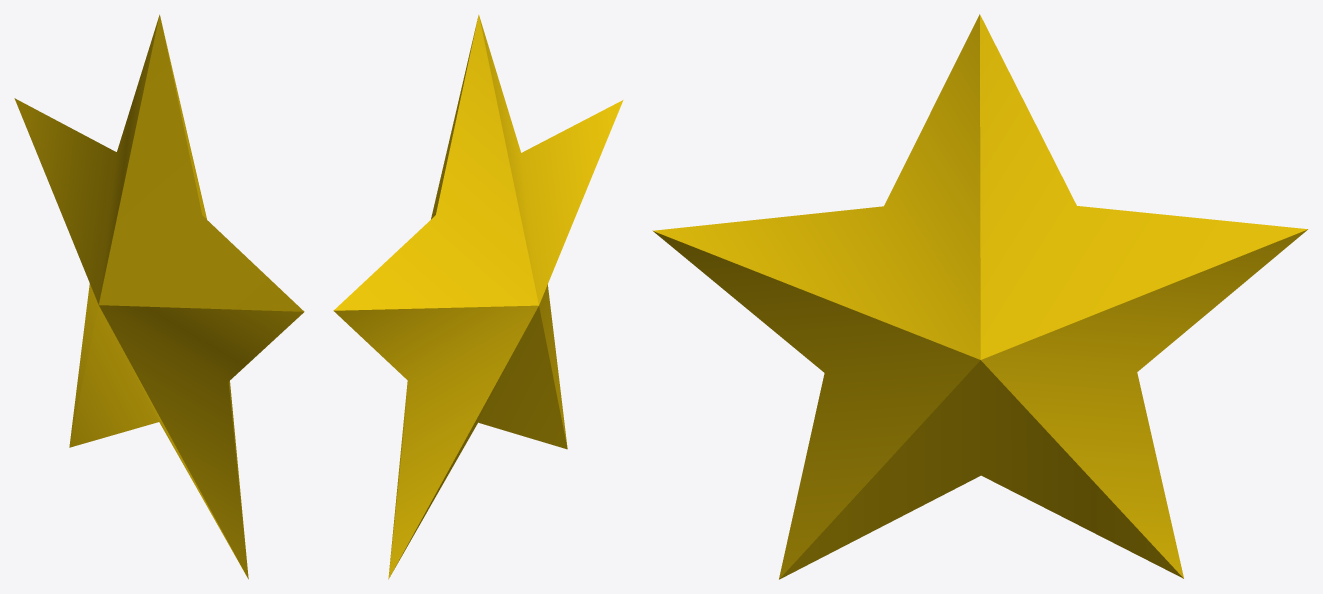
The model's file is star.glb.
3 renders of one model, left to right at view 1: azimuth 30°, elevation 25°; view 2: azimuth 150°, elevation 25°; view 3: azimuth 270°, elevation 25°, orthographic. The views are drawn at different scales.
Size of the model in its own units: 49.12 by 194 by 204.
